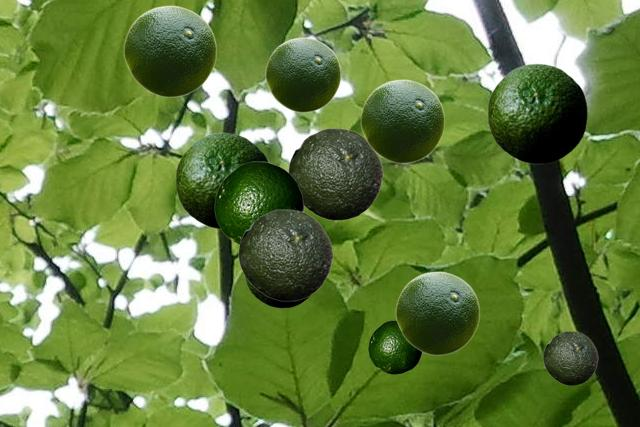calamansi: (487, 63, 586, 163), (175, 132, 268, 228), (288, 128, 382, 219), (238, 209, 332, 300), (123, 5, 216, 96), (214, 161, 303, 244), (395, 271, 479, 354), (360, 79, 444, 162), (265, 37, 340, 111), (543, 331, 597, 384), (368, 320, 422, 373), (244, 277, 308, 307)
